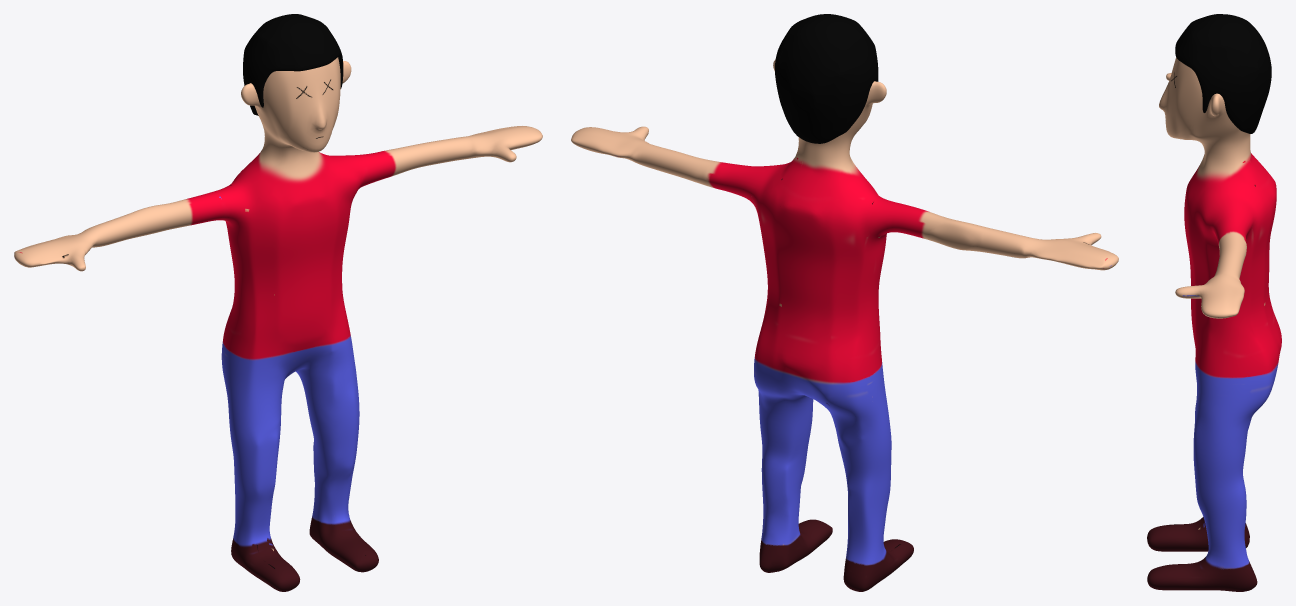
The picture shows the model from 3 angles, left to right: view 1: azimuth 30°, elevation 25°; view 2: azimuth 150°, elevation 25°; view 3: azimuth 270°, elevation 25°; orthographic projection. The views are drawn at different scales.
Parts seen in each view (by area): view 1: Ch1; view 2: Ch1; view 3: Ch1.
Part boxes in pixels (left/top/right/bottom): Ch1: left=14, top=14, right=542, bottom=591; Ch1: left=571, top=14, right=1118, bottom=591; Ch1: left=1147, top=14, right=1281, bottom=591.
Bounding box in the file's own units: 1332 × 1315 × 292.
Materials: 2 (2 with a texture image).
